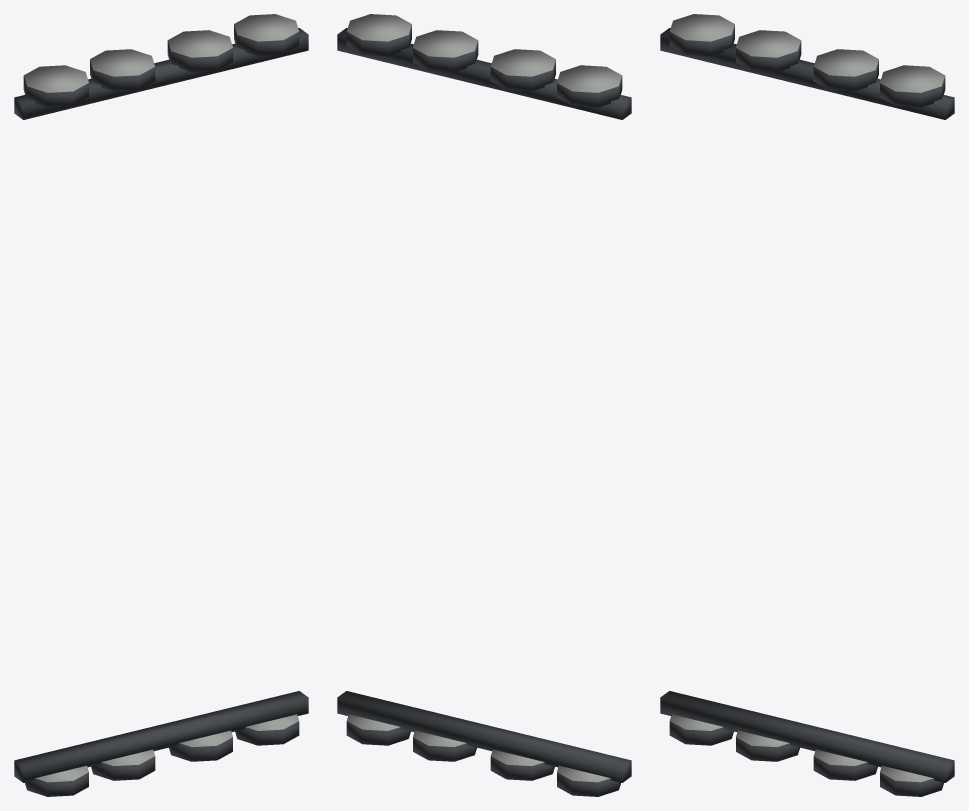
The model's file is Pylon_Aerialway_rollers.obj.
The picture shows the model from 3 angles, left to right: view 1: azimuth 30°, elevation 25°; view 2: azimuth 150°, elevation 25°; view 3: azimuth 330°, elevation 25°; orthographic projection.
Parts seen in each view (by area): view 1: Pylon_Aerialway_rollers; view 2: Pylon_Aerialway_rollers; view 3: Pylon_Aerialway_rollers.
Boxes of the visible parts, x1,y1,x2,y2 form: Pylon_Aerialway_rollers: [14, 14, 308, 796]; Pylon_Aerialway_rollers: [337, 14, 631, 796]; Pylon_Aerialway_rollers: [660, 14, 954, 796].
Bounding box in the file's own units: 2.43 × 5.73 × 0.5.
Materials: 1 (1 with a texture image).
